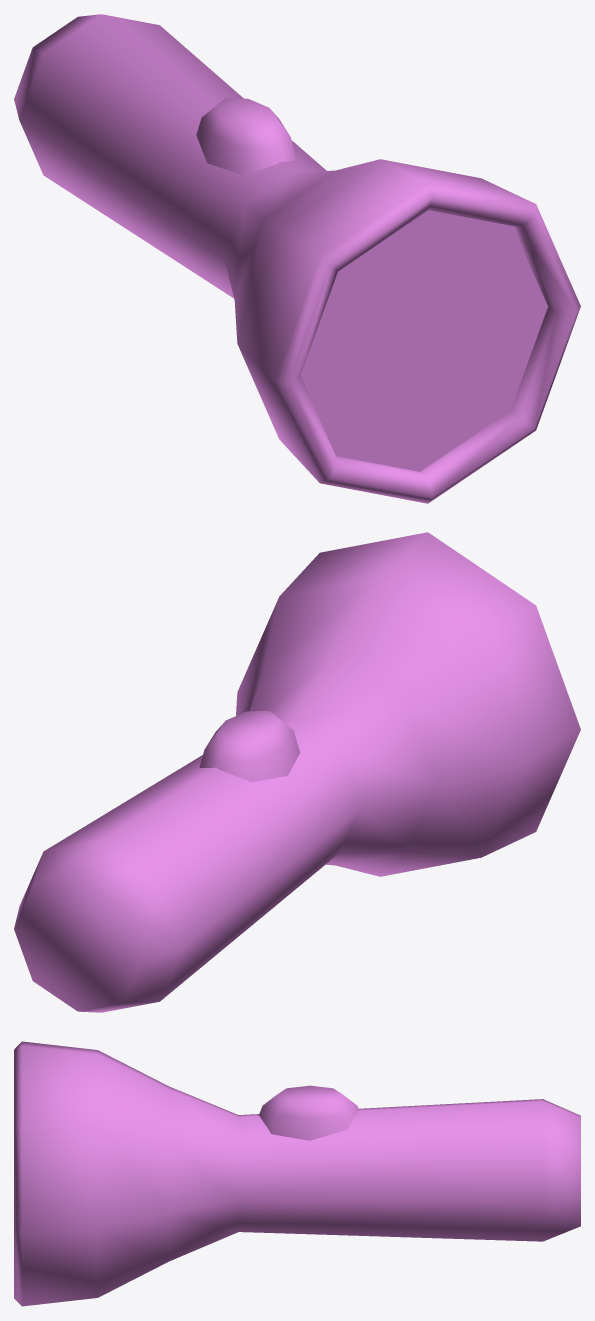
File: SM_Flashlight.fbx
The picture shows the model from 3 angles, top to bottom: view 1: azimuth 30°, elevation 25°; view 2: azimuth 150°, elevation 25°; view 3: azimuth 270°, elevation 25°; orthographic projection. The views are drawn at different scales.
Visible parts, largest first — view 1: SM_Flshlight; view 2: SM_Flshlight; view 3: SM_Flshlight.
Part boxes in pixels (x1,y1,x2,y2): SM_Flshlight: (14,14,580,503); SM_Flshlight: (14,532,580,1012); SM_Flshlight: (14,1041,580,1306).
Bounding box in the file's own units: 0.1544 × 0.1544 × 0.3104.
